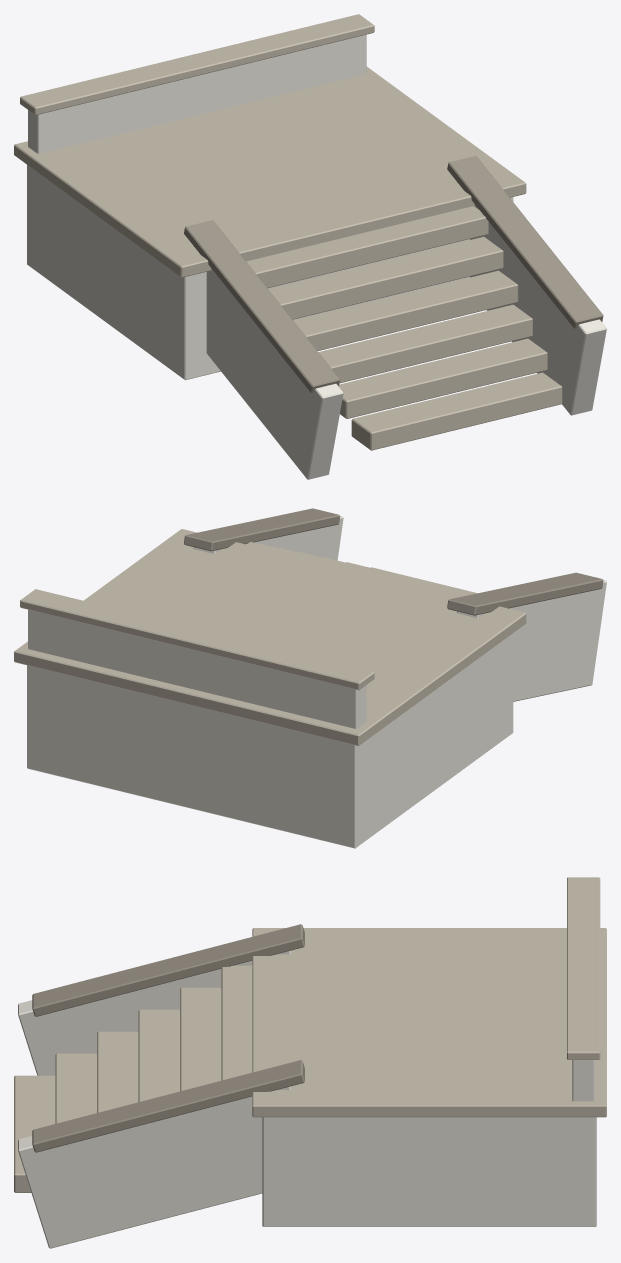
Rendered from TC_ENV_StairTerrace_V1.glb.
3 renders of one model, top to bottom at view 1: azimuth 30°, elevation 25°; view 2: azimuth 150°, elevation 25°; view 3: azimuth 270°, elevation 25°, orthographic. The views are drawn at different scales.
Parts seen in each view (by area): view 1: TC_ENV_StairTerrace_V1; view 2: TC_ENV_StairTerrace_V1; view 3: TC_ENV_StairTerrace_V1.
Part boxes in pixels (box(x1,y1,x2,y2)): TC_ENV_StairTerrace_V1: box(14, 14, 606, 479); TC_ENV_StairTerrace_V1: box(14, 508, 606, 848); TC_ENV_StairTerrace_V1: box(14, 877, 606, 1248).
Size of the model in its own units: 6.3 by 3.48 by 8.86.
